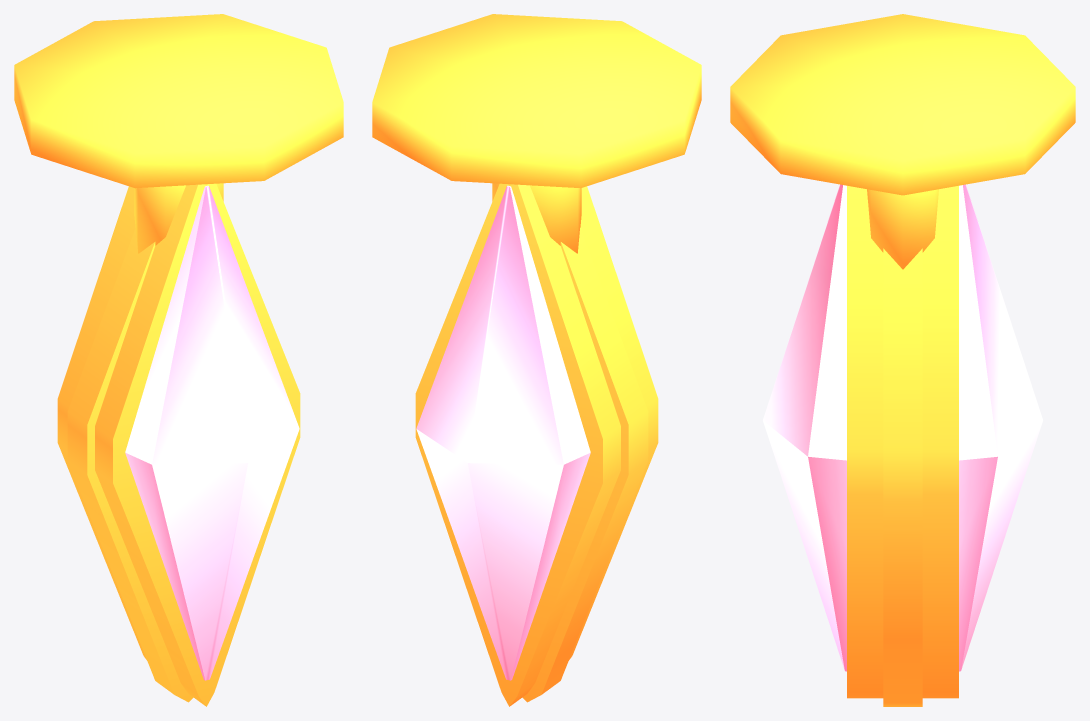
File: gold_pommel_049.glb
The picture shows the model from 3 angles, left to right: view 1: azimuth 30°, elevation 25°; view 2: azimuth 150°, elevation 25°; view 3: azimuth 270°, elevation 25°; orthographic projection.
Visible parts, largest first — view 1: gold_pommel_049; view 2: gold_pommel_049; view 3: gold_pommel_049.
Boxes of the visible parts, x1,y1,x2,y2 form: gold_pommel_049: [14, 14, 343, 706]; gold_pommel_049: [372, 14, 701, 706]; gold_pommel_049: [730, 14, 1075, 706].
Size of the model in its own units: 1.83 by 3.62 by 1.83.
Materials: 1 (1 with a texture image).
